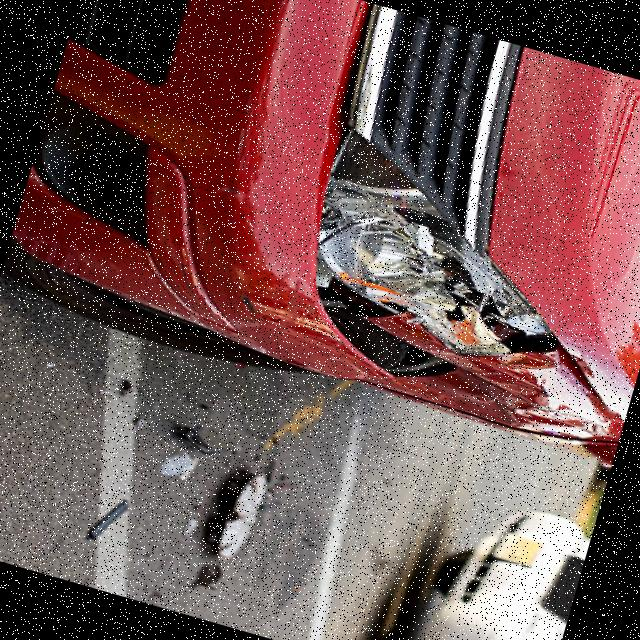Head Light: (272, 165, 620, 412)
